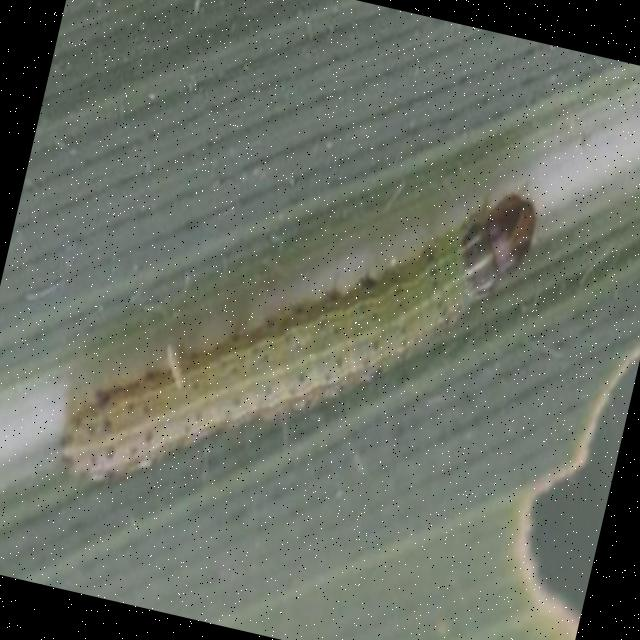worm: (48, 94, 549, 572), (447, 172, 548, 312)
